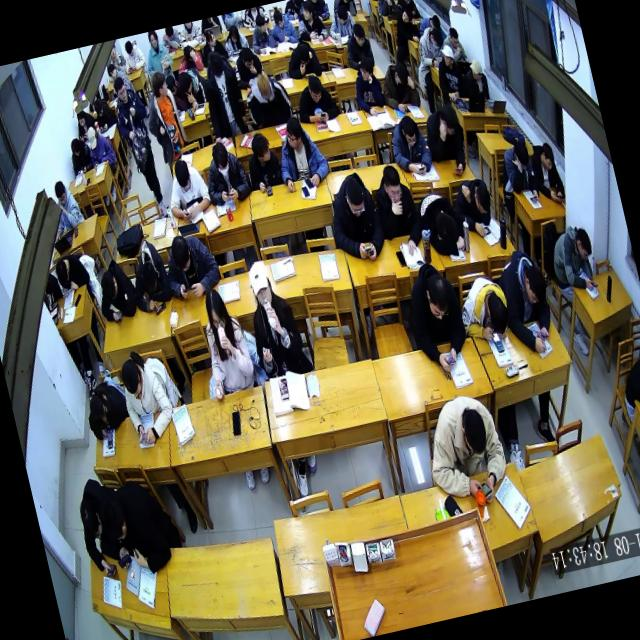bow: (454, 271, 516, 348), (122, 234, 174, 314), (412, 184, 466, 260), (88, 252, 142, 326), (78, 376, 132, 442), (448, 172, 500, 240), (374, 57, 422, 116), (280, 34, 324, 82), (174, 64, 212, 113), (324, 2, 358, 42), (172, 41, 204, 76)
down: (496, 135, 542, 207), (526, 138, 567, 206), (458, 403, 492, 458), (96, 494, 130, 544), (422, 271, 454, 322), (518, 260, 550, 305), (482, 288, 512, 335), (75, 497, 105, 544), (340, 173, 368, 220), (202, 286, 230, 332), (378, 162, 404, 206), (117, 356, 143, 398), (168, 234, 194, 272), (208, 138, 232, 178), (84, 391, 110, 426), (438, 102, 462, 138), (470, 179, 494, 214), (171, 156, 193, 194), (572, 225, 594, 262), (97, 266, 120, 300), (137, 257, 159, 291), (511, 138, 532, 172), (391, 59, 412, 91), (398, 115, 418, 148), (205, 48, 226, 79), (538, 140, 557, 172), (52, 256, 72, 286), (304, 72, 324, 102), (252, 70, 272, 100), (350, 21, 368, 48), (426, 24, 444, 49), (177, 70, 194, 96), (52, 180, 68, 207), (447, 24, 462, 50), (296, 42, 312, 66), (164, 72, 178, 96), (85, 125, 98, 149), (240, 46, 254, 67), (270, 8, 284, 29), (182, 41, 196, 60), (91, 96, 103, 117), (228, 22, 240, 42), (69, 138, 81, 157), (123, 38, 135, 56), (76, 108, 86, 125), (400, 0, 412, 5)
lookup: (247, 262, 276, 311), (111, 76, 128, 103), (146, 30, 159, 49), (104, 60, 117, 78), (107, 43, 118, 59)
sit: (415, 388, 515, 514), (92, 470, 188, 586), (236, 254, 314, 382), (396, 255, 474, 379), (106, 70, 169, 218), (190, 280, 260, 402), (490, 244, 560, 358), (320, 166, 389, 269), (114, 344, 178, 448), (69, 474, 131, 580), (367, 158, 426, 258), (269, 110, 334, 196), (194, 44, 251, 140), (156, 226, 224, 303), (135, 66, 188, 162), (544, 218, 601, 296), (418, 99, 471, 180), (196, 136, 254, 210), (159, 154, 215, 225), (384, 110, 436, 182), (238, 65, 294, 131), (288, 67, 340, 127), (240, 130, 286, 197), (346, 52, 386, 116), (429, 42, 466, 104), (338, 18, 376, 72), (138, 28, 176, 81), (49, 174, 85, 229), (52, 250, 93, 298), (412, 21, 449, 70), (291, 0, 329, 47), (230, 44, 266, 92), (458, 54, 492, 104), (82, 121, 116, 169), (266, 4, 300, 48), (195, 24, 229, 66), (246, 12, 276, 56), (391, 4, 422, 46), (439, 24, 469, 66), (117, 36, 147, 74), (66, 134, 94, 174), (90, 94, 119, 132), (220, 22, 250, 58), (72, 106, 98, 141), (391, 0, 420, 22), (373, 0, 398, 16)
